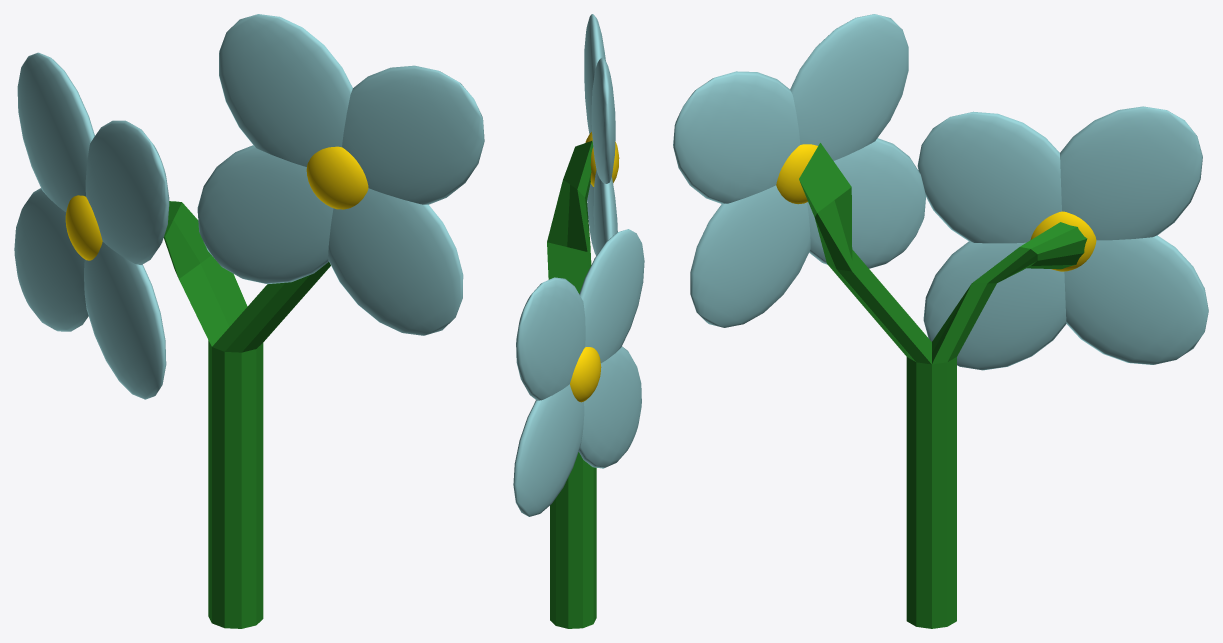
The model's file is FlowerV3.obj.
3 renders of one model, left to right at view 1: azimuth 30°, elevation 25°; view 2: azimuth 150°, elevation 25°; view 3: azimuth 270°, elevation 25°, orthographic. The views are drawn at different scales.
Visible parts, largest first — view 1: pSphere22; view 2: pSphere22; view 3: pSphere22.
Boxes of the visible parts, bbox=[...] form: pSphere22: bbox=[14, 14, 484, 628]; pSphere22: bbox=[513, 14, 644, 628]; pSphere22: bbox=[673, 14, 1208, 628].
Bounding box in the file's own units: 0.7836 × 2.26 × 1.82.
Materials: 3 (2 with a texture image).
